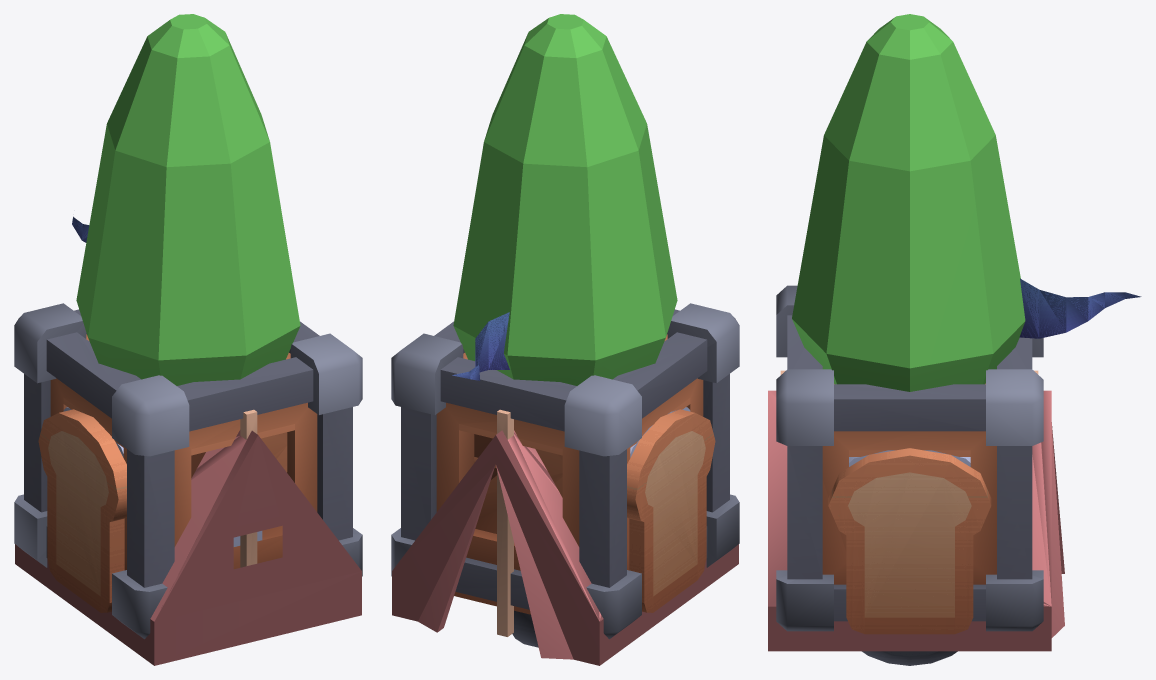
Rendered from safari.glb.
3 renders of one model, left to right at view 1: azimuth 30°, elevation 25°; view 2: azimuth 150°, elevation 25°; view 3: azimuth 270°, elevation 25°, orthographic.
Visible parts, largest first — view 1: tree_cone.001, crate-strong, tent_smallOpen, loaf, crate.001; view 2: tree_cone.001, crate-strong, tent_smallOpen, loaf, flag-pennant, crate.001, wheel-large; view 3: tree_cone.001, crate-strong, loaf, tent_smallOpen, flag-pennant, wheel-large.
Part boxes in pixels (box(x1,y1,x2,y2)): tree_cone.001: box(76, 14, 300, 385); crate-strong: box(14, 303, 362, 639); tent_smallOpen: box(15, 409, 361, 665); loaf: box(38, 409, 126, 612); crate.001: box(63, 398, 294, 477); tree_cone.001: box(453, 14, 677, 385); crate-strong: box(391, 303, 739, 639); tent_smallOpen: box(392, 409, 738, 665); loaf: box(473, 409, 715, 612); flag-pennant: box(452, 312, 509, 380); crate.001: box(454, 398, 690, 614); wheel-large: box(512, 610, 538, 647); tree_cone.001: box(792, 14, 1025, 391); crate-strong: box(776, 285, 1043, 631); loaf: box(828, 448, 991, 634); tent_smallOpen: box(768, 370, 1064, 651); flag-pennant: box(1019, 278, 1141, 338); wheel-large: box(862, 651, 957, 665).
Bounding box in the file's own units: 0.6 × 1.57 × 0.8389.
11 materials, 4 textured.
